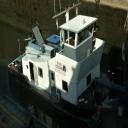tugboat: (8, 3, 126, 127)
